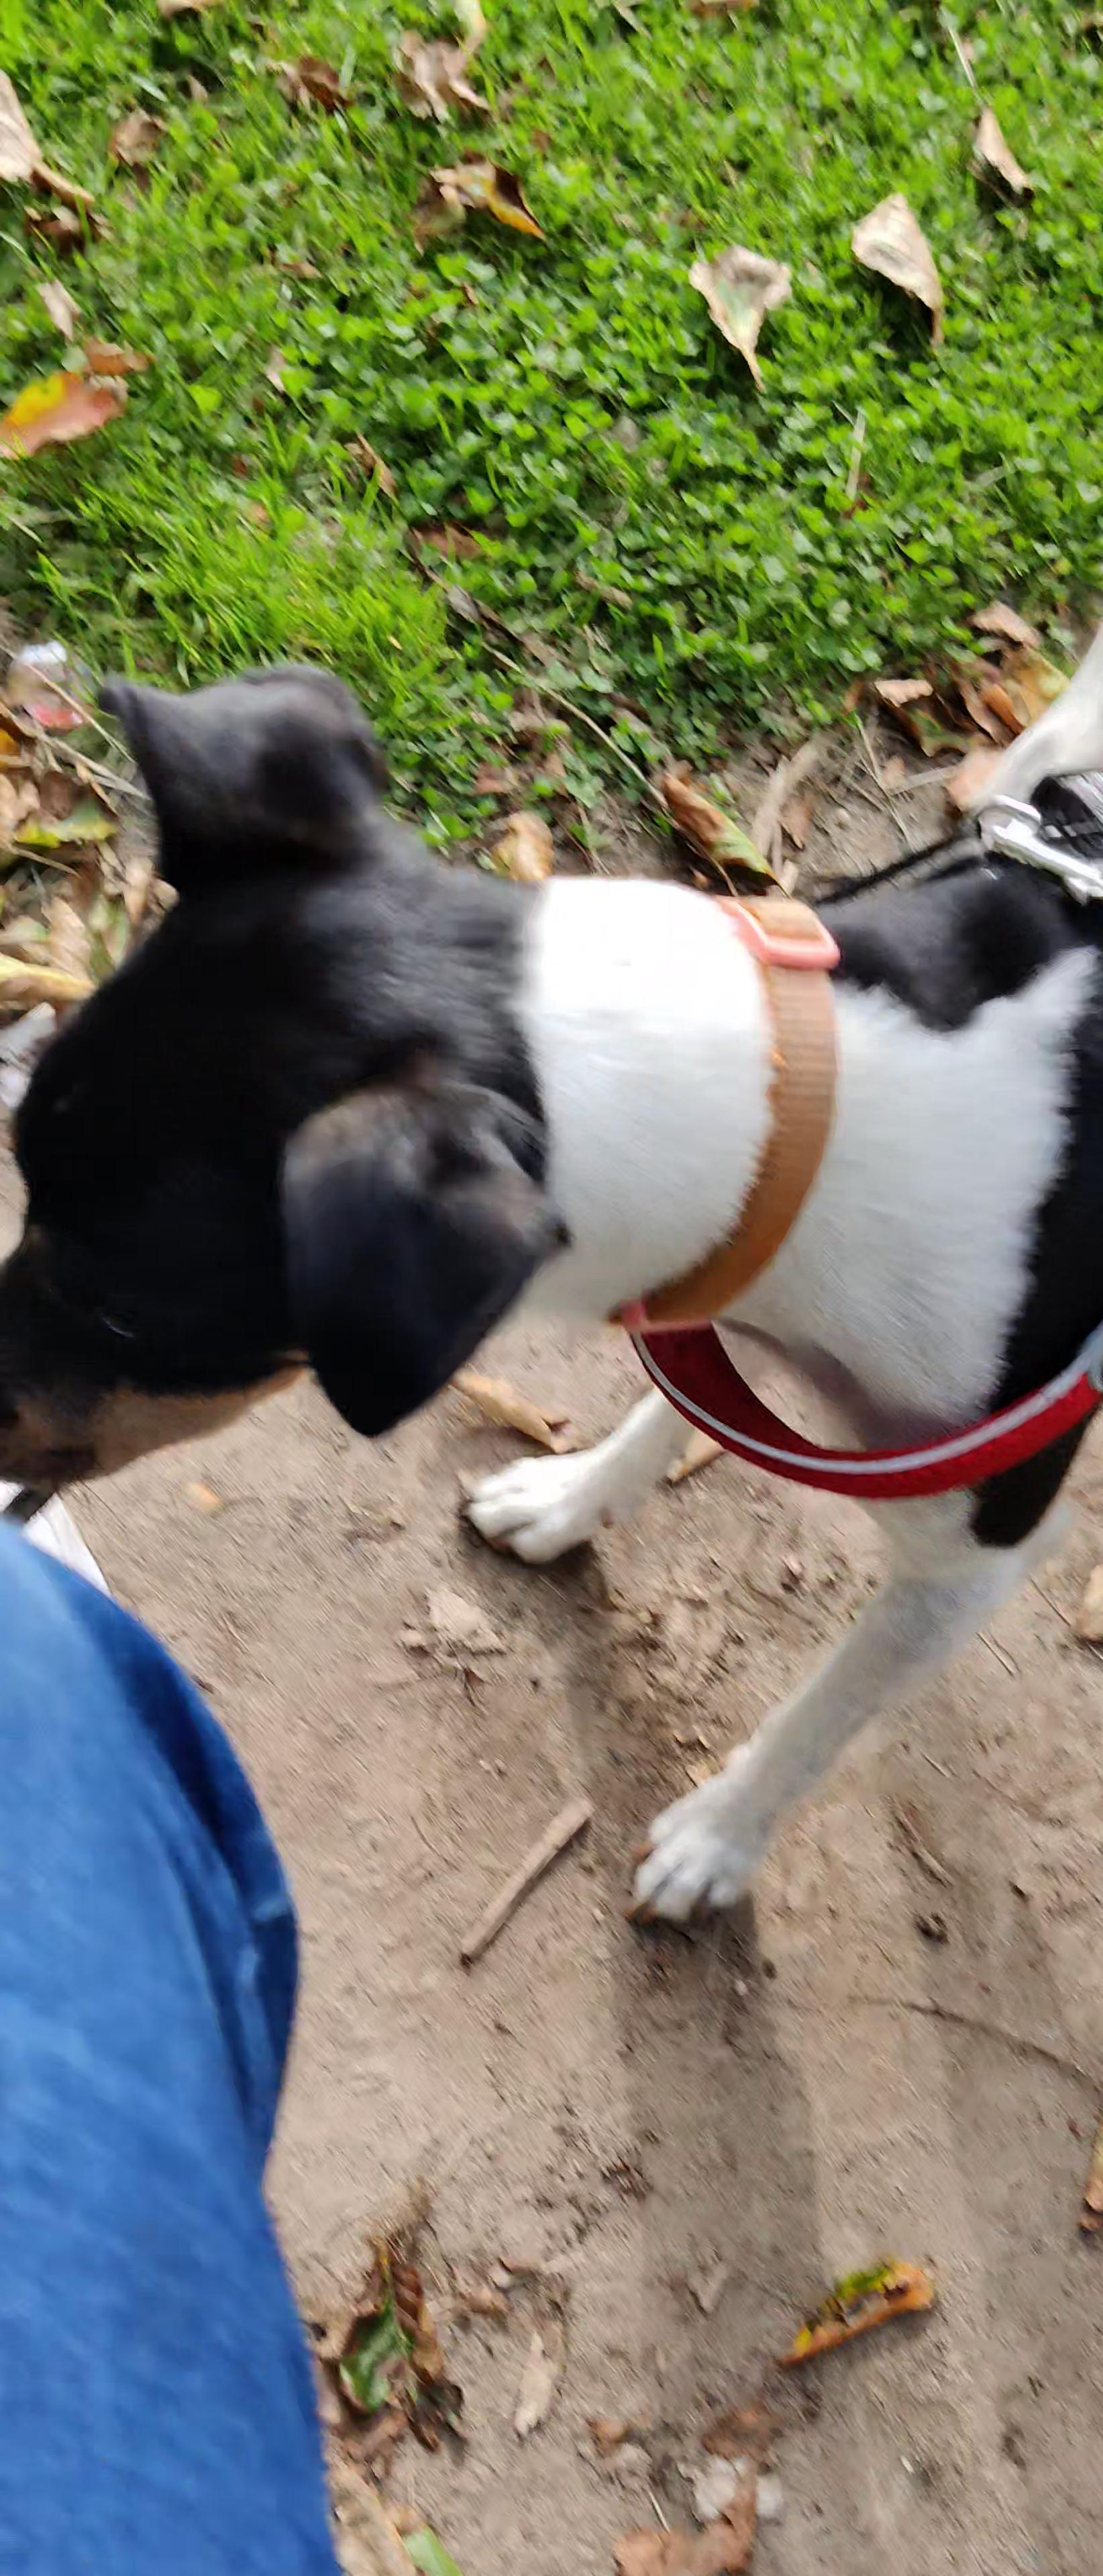Dog: (0, 611, 1103, 1940)
